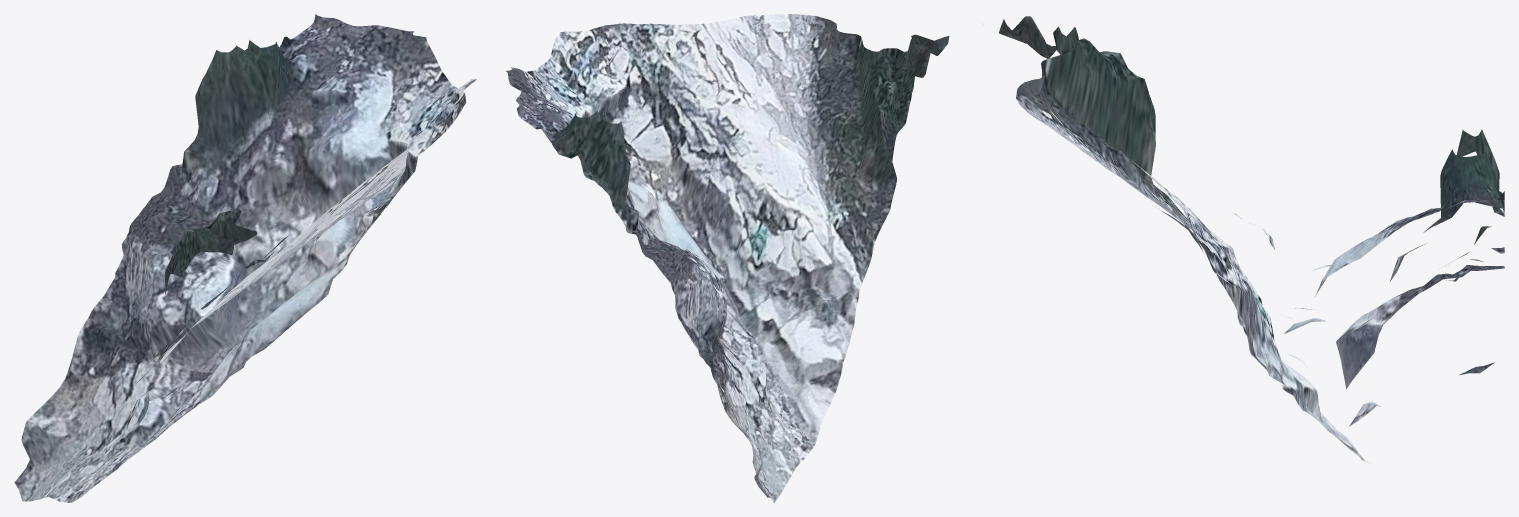
The model's file is Tile_+009_+007_L19_00160.glb.
3 views of the same model, side by side, from view 1: azimuth 30°, elevation 25°; view 2: azimuth 150°, elevation 25°; view 3: azimuth 270°, elevation 25° (orthographic). The views are drawn at different scales.
Parts seen in each view (by area): view 1: rtc; view 2: rtc; view 3: rtc.
Part boxes in pixels (x1,y1,x2,y2): rtc: (14,14,476,502); rtc: (506,14,949,502); rtc: (999,16,1504,463).
Bounding box in the file's own units: 43.44 × 46.92 × 45.77.
1 material, 1 textured.
